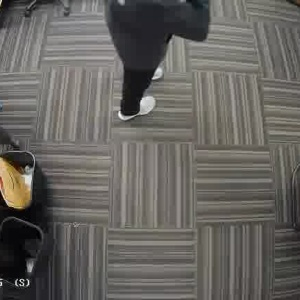person: (113, 0, 191, 124)
